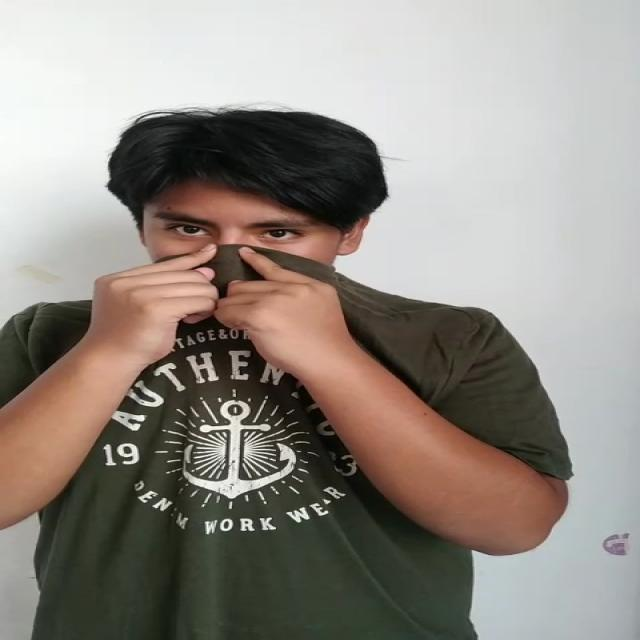8_ropa_rostro: (113, 248, 495, 369)
